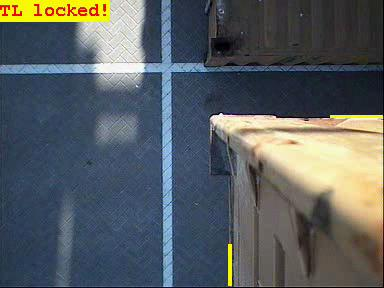groundmarker_2: (144, 19, 201, 56), (140, 164, 197, 201), (140, 224, 197, 261)
